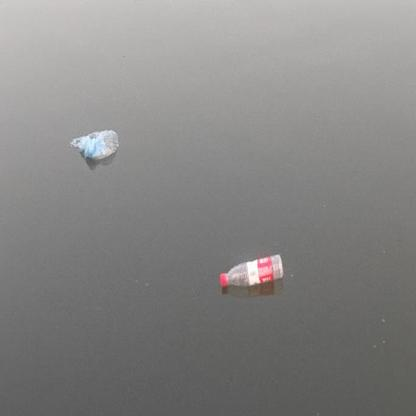plastic bag: (70, 129, 119, 159)
plastic bottle: (219, 253, 284, 291)
